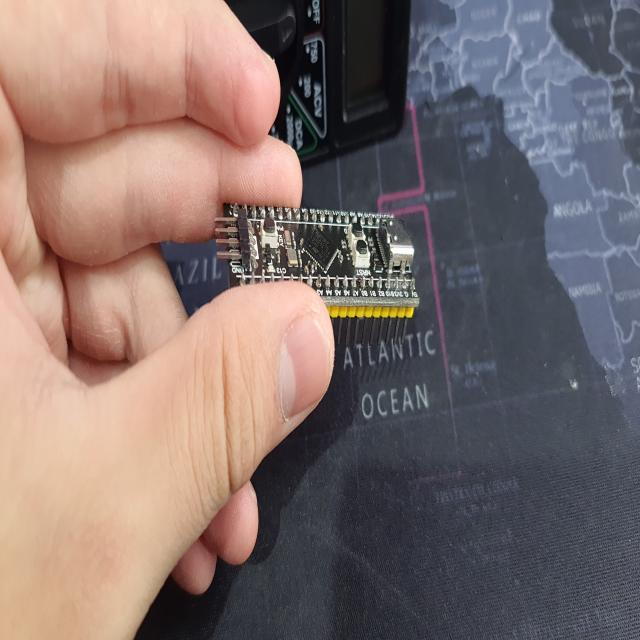STM32: (216, 206, 418, 318)
